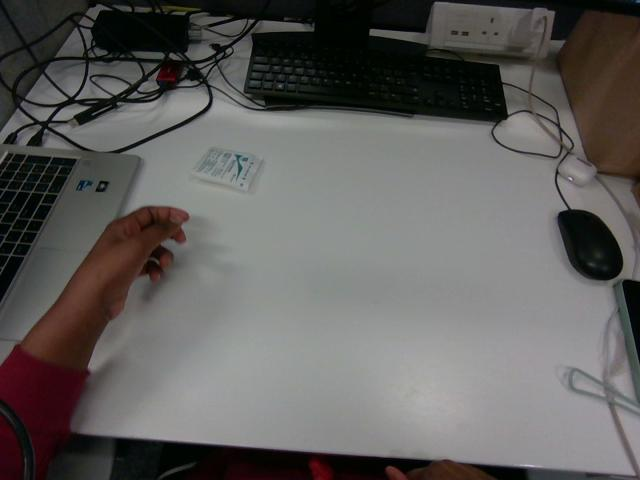gauze: (191, 148, 261, 191)
